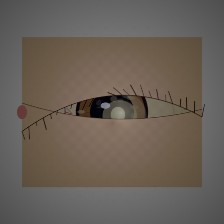corneal_ulcer: (92, 93, 148, 138)
